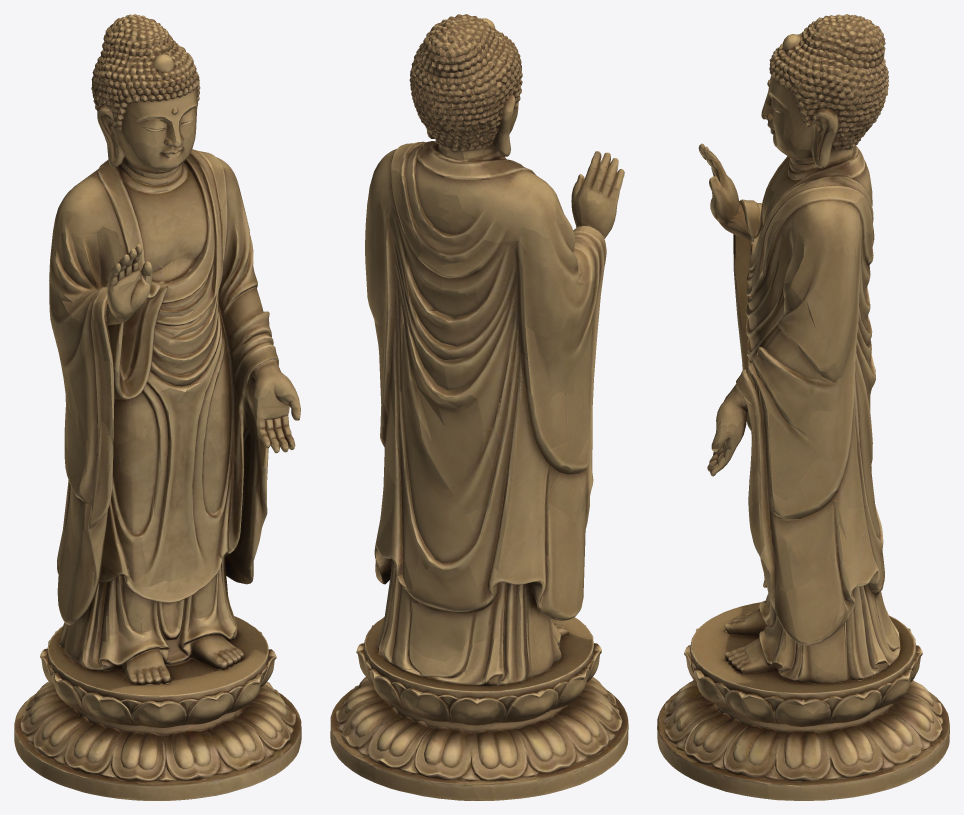
File: statue-buddhaS.glb
The picture shows the model from 3 angles, left to right: view 1: azimuth 30°, elevation 25°; view 2: azimuth 150°, elevation 25°; view 3: azimuth 270°, elevation 25°; orthographic projection. The views are drawn at different scales.
Visible parts, largest first — view 1: output_unwrapped; view 2: output_unwrapped; view 3: output_unwrapped.
Part boxes in pixels (bbox=[...]): output_unwrapped: bbox=[14, 14, 301, 800]; output_unwrapped: bbox=[330, 14, 628, 800]; output_unwrapped: bbox=[657, 14, 949, 800].
Bounding box in the file's own units: 0.7014 × 1.9 × 0.6989.
Materials: 1 (1 with a texture image).
